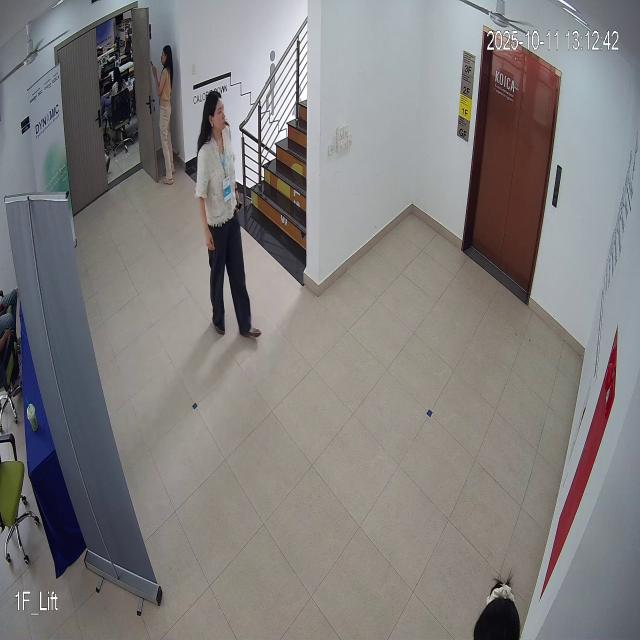face: (201, 84, 229, 154)
